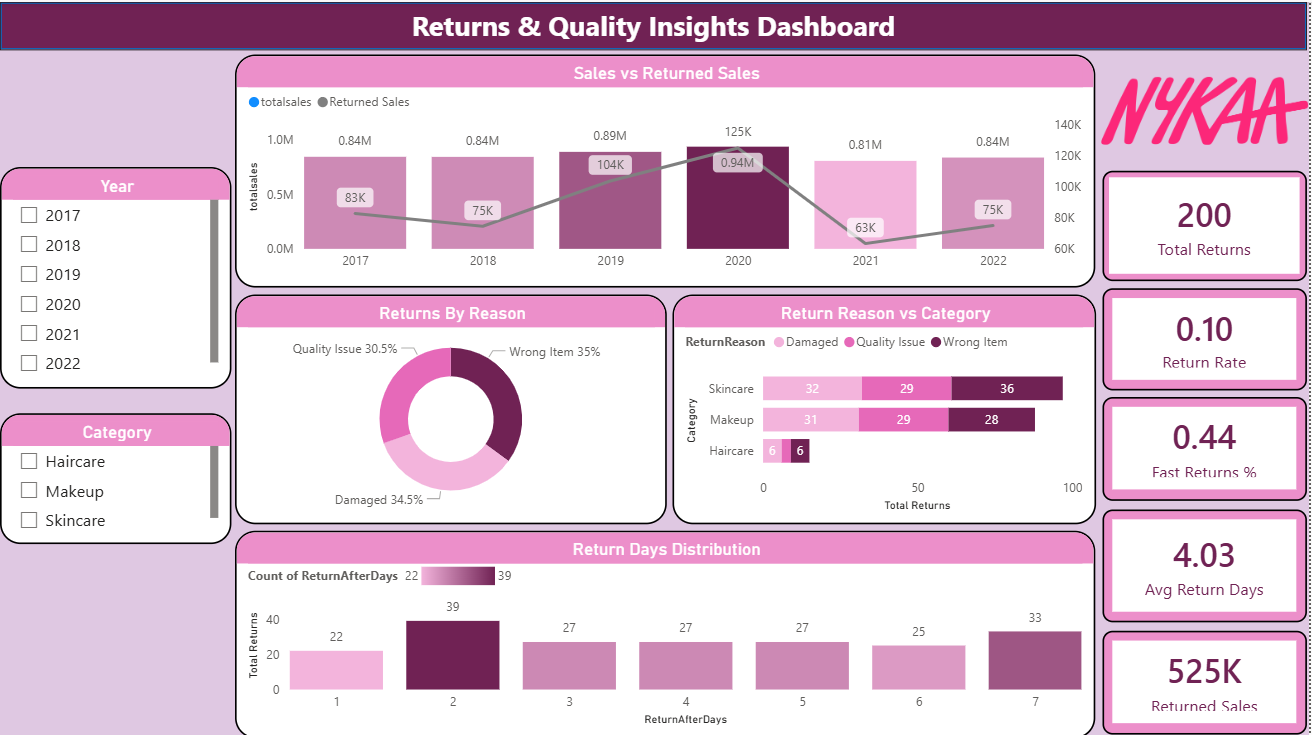

Layout of this report page (visuals, bound fields, positions):
{"tool":"powerbi","page":{"name":"return and quality","canvas":[1280,720],"ordinal":1},"visuals":[{"type":"cardVisual","fields":{"Data":["daxs.Total Returns"]},"box":[1078.3,165,200,108.3],"z":0},{"type":"cardVisual","fields":{"Data":["daxs.Return Rate"]},"box":[1078.3,280,200,100],"z":1000},{"type":"cardVisual","fields":{"Data":["daxs.Fast Returns %"]},"box":[1078.3,386.7,200,101.7],"z":2000},{"type":"cardVisual","fields":{"Data":["daxs.Returned Sales"]},"box":[1078.3,615,200,101.7],"z":3000},{"type":"cardVisual","fields":{"Data":["daxs.Avg Return Days"]},"box":[1078.3,496.7,200,110],"z":4000},{"type":"slicer","title":"Year","fields":{"Values":["DateTable.Year"]},"box":[0,161.7,226.4,216.4],"z":5000},{"type":"slicer","title":"Category","fields":{"Values":["Nykaa_Sales_2017_2022.Category"]},"box":[0,401.8,226.4,128.1],"z":6000},{"type":"shape","box":[0,0,1278.8,47.3],"z":7000},{"type":"textbox","box":[0,0,1278.8,47.3],"z":8000},{"type":"lineClusteredColumnComboChart","title":"Sales vs Returned Sales","fields":{"Category":["DateTable.Year"],"Y":["daxs.totalsales"],"Y2":["daxs.Returned Sales"]},"box":[230,51.7,841.7,228.3],"z":9000},{"type":"donutChart","title":"Returns By Reason","fields":{"Category":["Nykaa_Returns_2017_2022.ReturnReason"],"Y":["daxs.Total Returns"]},"box":[229.4,285.7,422.7,225.1],"z":10000},{"type":"barChart","title":"Return Reason vs Category","fields":{"Category":["Nykaa_Sales_2017_2022.Category"],"Series":["Nykaa_Returns_2017_2022.ReturnReason"],"Y":["daxs.Total Returns"]},"box":[657.9,285.7,414.1,225.1],"z":11000},{"type":"clusteredColumnChart","title":"Return Days Distribution","fields":{"Category":["Nykaa_Returns_2017_2022.ReturnAfterDays"],"Y":["daxs.Total Returns"]},"box":[230,516.7,841.7,203.3],"z":12000},{"type":"image","box":[1077.3,47.3,202.8,118.2],"z":13000}]}

Visuals, with their boxes in screenshot pixels (x1, y1, x2, y2), scaled from the page's 1280x720 canvas onto the 1312x735 screenshot:
cardVisual - daxs.Total Returns: detection(1105, 168, 1310, 279)
cardVisual - daxs.Return Rate: detection(1105, 286, 1310, 388)
cardVisual - daxs.Fast Returns %: detection(1105, 395, 1310, 499)
cardVisual - daxs.Returned Sales: detection(1105, 628, 1310, 732)
cardVisual - daxs.Avg Return Days: detection(1105, 507, 1310, 619)
"Year" slicer: detection(0, 165, 232, 386)
"Category" slicer: detection(0, 410, 232, 541)
shape: detection(0, 0, 1311, 48)
textbox: detection(0, 0, 1311, 48)
"Sales vs Returned Sales" lineClusteredColumnComboChart: detection(236, 53, 1098, 286)
"Returns By Reason" donutChart: detection(235, 292, 668, 521)
"Return Reason vs Category" barChart: detection(674, 292, 1099, 521)
"Return Days Distribution" clusteredColumnChart: detection(236, 527, 1098, 734)
image: detection(1104, 48, 1311, 169)
